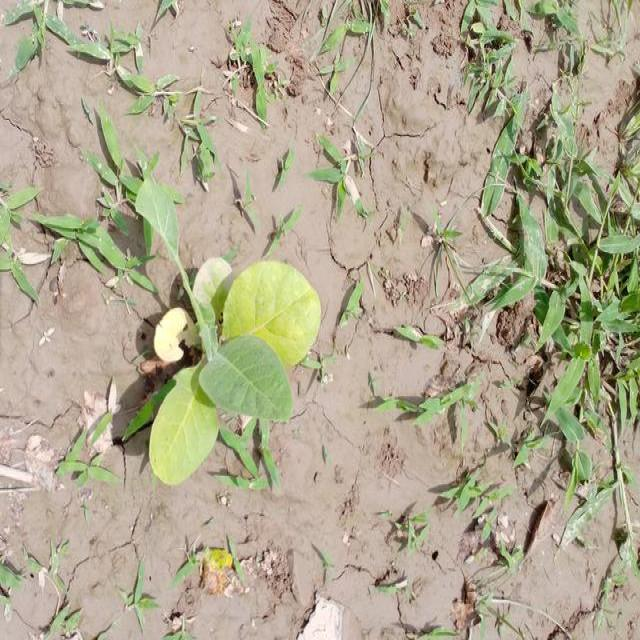crop: (137, 196, 317, 486)
